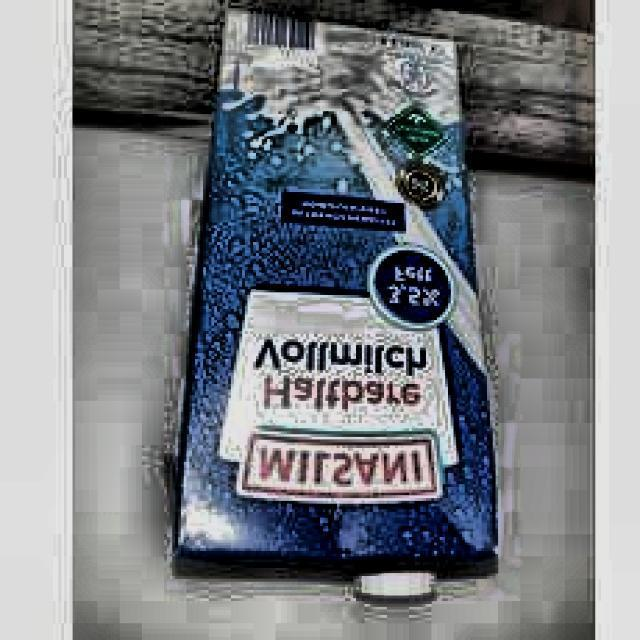cardboard: (164, 8, 498, 601)
